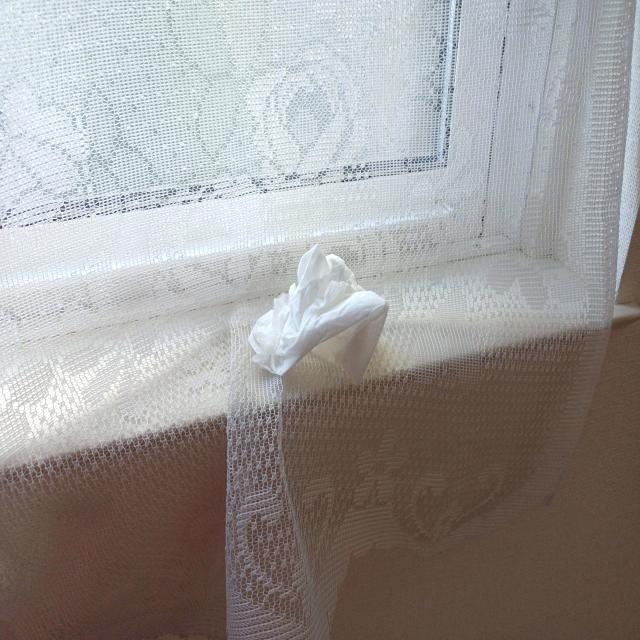Paper: (256, 239, 395, 380)
